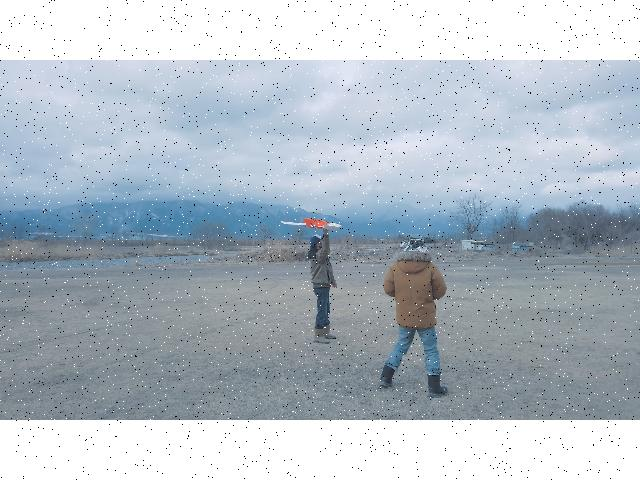Anti-Drone: (280, 218, 342, 230)
